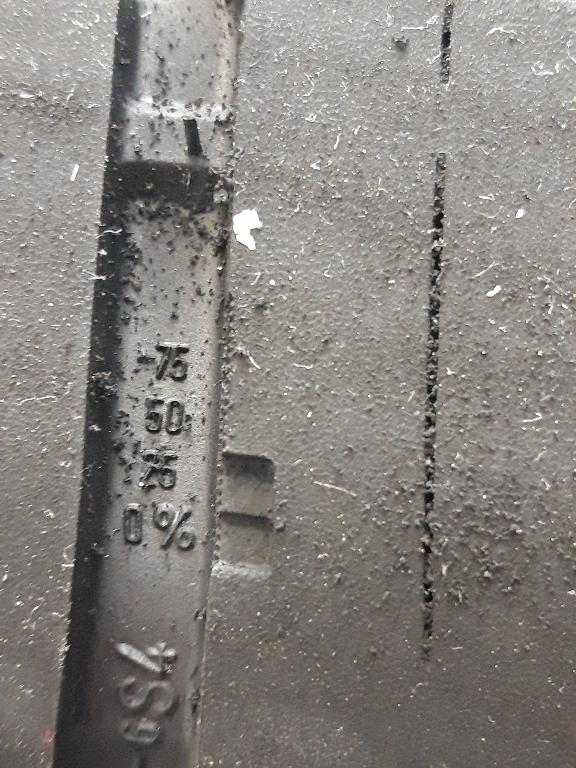temoin:50: (193, 395, 295, 600)
